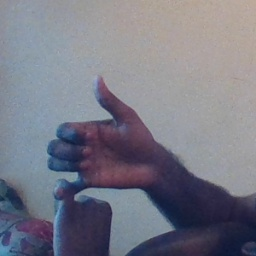S: (30, 73, 153, 251)
